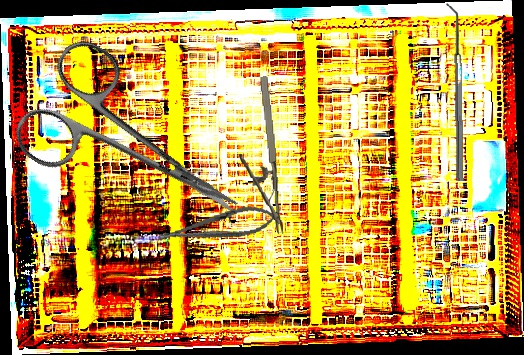Iris Scissors: (4, 31, 270, 268)
Needle Holder: (233, 75, 284, 237), (156, 200, 280, 252)
Spatula Surgical: (446, 2, 464, 182)
